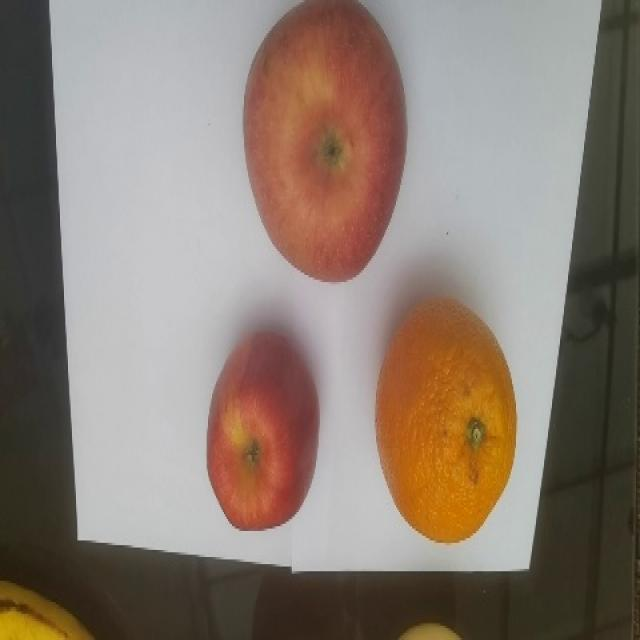Apple: (241, 0, 408, 283), (205, 330, 319, 531)
Banana: (0, 579, 95, 639)
Orange: (373, 296, 517, 544)
